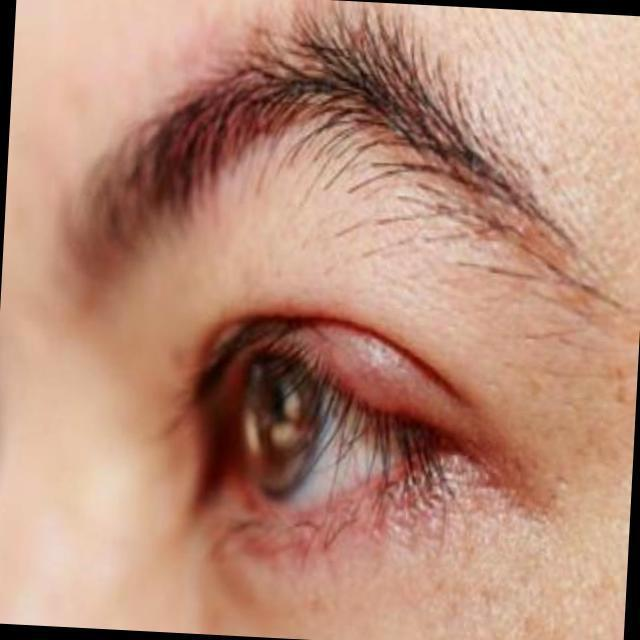Stye: (298, 294, 516, 462)
